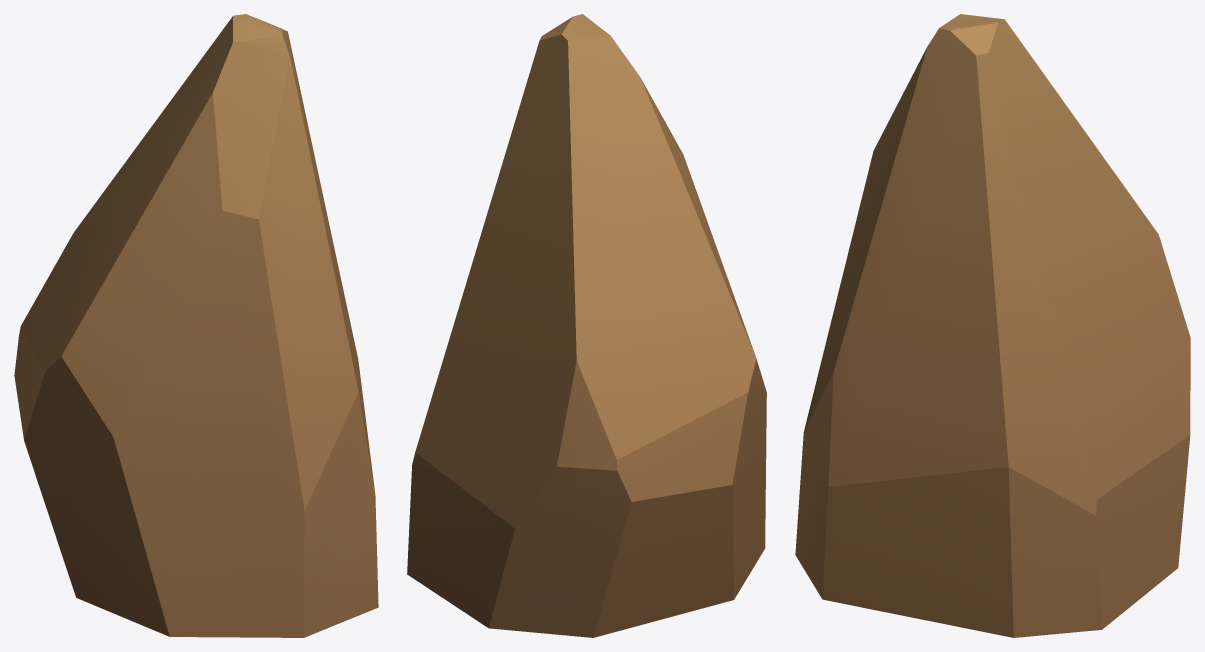
File: desert stone small 4.fbx
3 renders of one model, left to right at view 1: azimuth 30°, elevation 25°; view 2: azimuth 150°, elevation 25°; view 3: azimuth 270°, elevation 25°, orthographic. The views are drawn at different scales.
Visible parts, largest first — view 1: desert stone small 4; view 2: desert stone small 4; view 3: desert stone small 4.
Boxes of the visible parts, x1,y1,x2,y2 form: desert stone small 4: (14, 14, 378, 637); desert stone small 4: (407, 14, 766, 637); desert stone small 4: (795, 14, 1190, 637).
Size of the model in its own units: 62.15 by 100 by 64.78.
